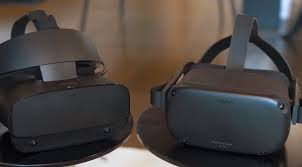oculus: (167, 60, 302, 156), (8, 72, 137, 158)
